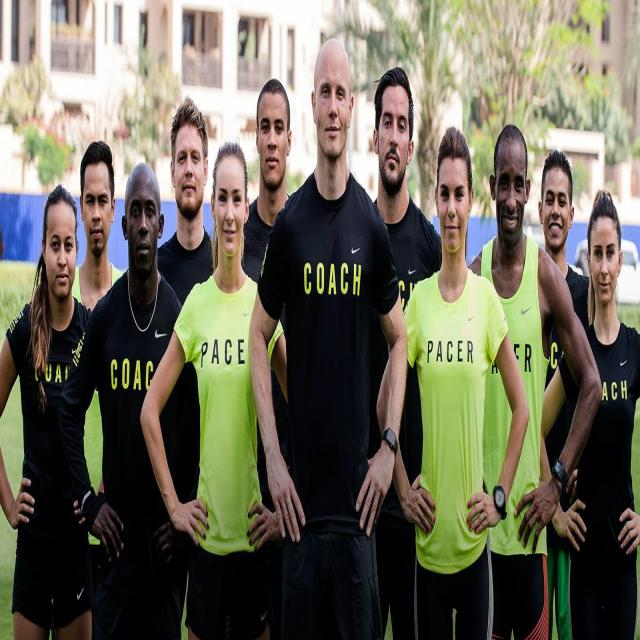body: (241, 30, 414, 639), (373, 124, 534, 639), (138, 138, 290, 640), (65, 157, 202, 639), (0, 174, 105, 640), (537, 187, 640, 639), (370, 60, 444, 639), (156, 95, 220, 626), (535, 147, 596, 640), (240, 76, 292, 640), (538, 150, 590, 640), (72, 140, 125, 604)
